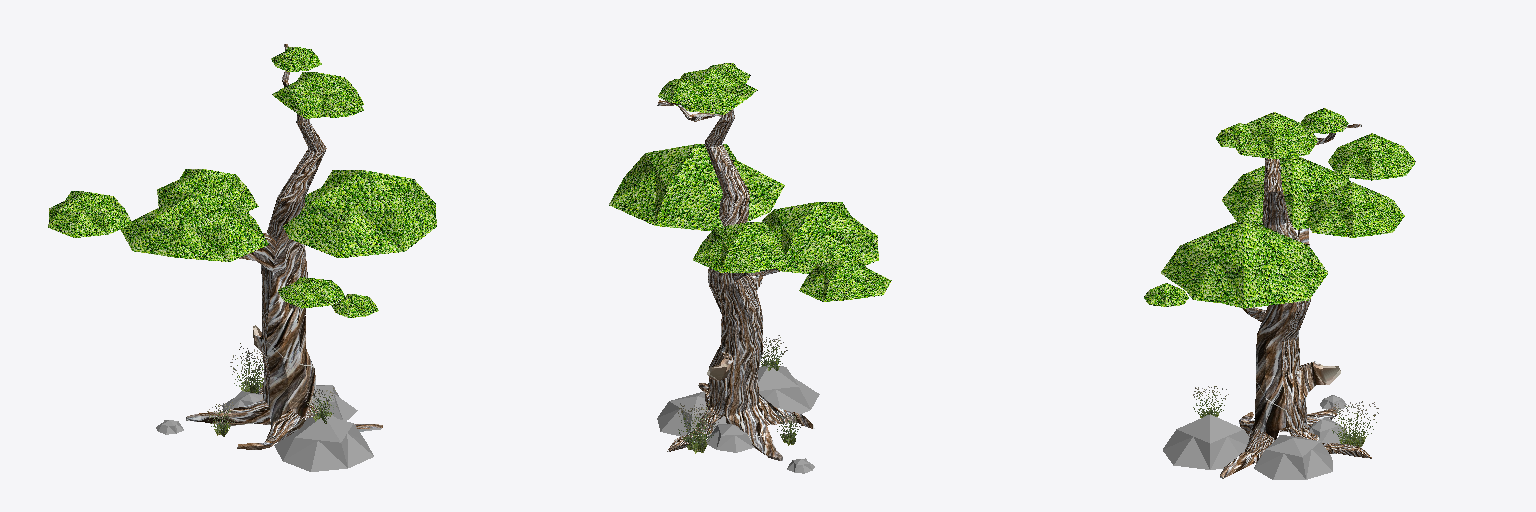
3 views of the same model, side by side, from view 1: azimuth 30°, elevation 25°; view 2: azimuth 150°, elevation 25°; view 3: azimuth 270°, elevation 25° (orthographic).
Visible parts, largest first — view 1: Cylinder.001_Cylinder.002, Cylinder_Cylinder.001, Sphere, Plane.001_Plane.002; view 2: Cylinder.001_Cylinder.002, Cylinder_Cylinder.001, Sphere, Plane.001_Plane.002; view 3: Cylinder.001_Cylinder.002, Cylinder_Cylinder.001, Sphere, Plane.001_Plane.002.
Boxes of the visible parts, box(x1,y1,x2,y2) form: Cylinder.001_Cylinder.002: box(48, 47, 436, 317); Cylinder_Cylinder.001: box(186, 44, 382, 449); Sphere: box(156, 385, 373, 471); Plane.001_Plane.002: box(207, 343, 336, 436); Cylinder.001_Cylinder.002: box(609, 63, 891, 301); Cylinder_Cylinder.001: box(657, 100, 814, 460); Sphere: box(657, 365, 819, 473); Plane.001_Plane.002: box(677, 335, 801, 453); Cylinder.001_Cylinder.002: box(1144, 108, 1415, 308); Cylinder_Cylinder.001: box(1220, 124, 1371, 478); Sphere: box(1163, 395, 1347, 479); Plane.001_Plane.002: box(1193, 386, 1378, 446).
Size of the model in its own units: 13.98 by 14.67 by 10.21.
Materials: 4 (3 with a texture image).